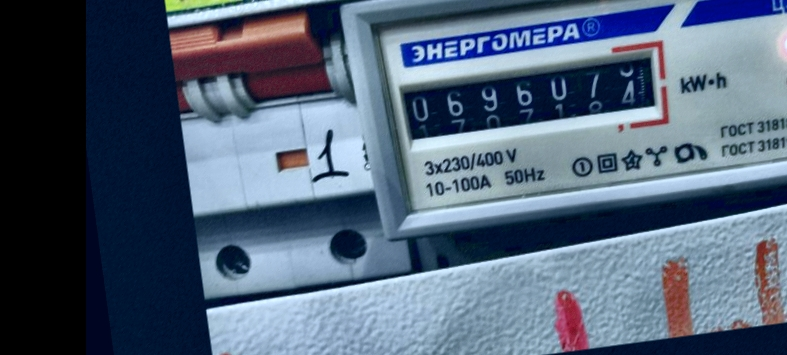0: (407, 92, 431, 124), (547, 70, 569, 102)
4: (615, 77, 638, 107)
6: (441, 86, 467, 118), (512, 77, 535, 107)
7: (581, 67, 602, 99)
9: (478, 82, 499, 114)
screen: (380, 33, 674, 160)
